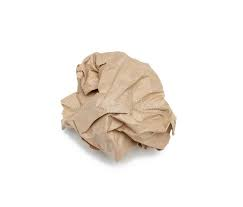crumpled paper: (59, 51, 183, 163)
